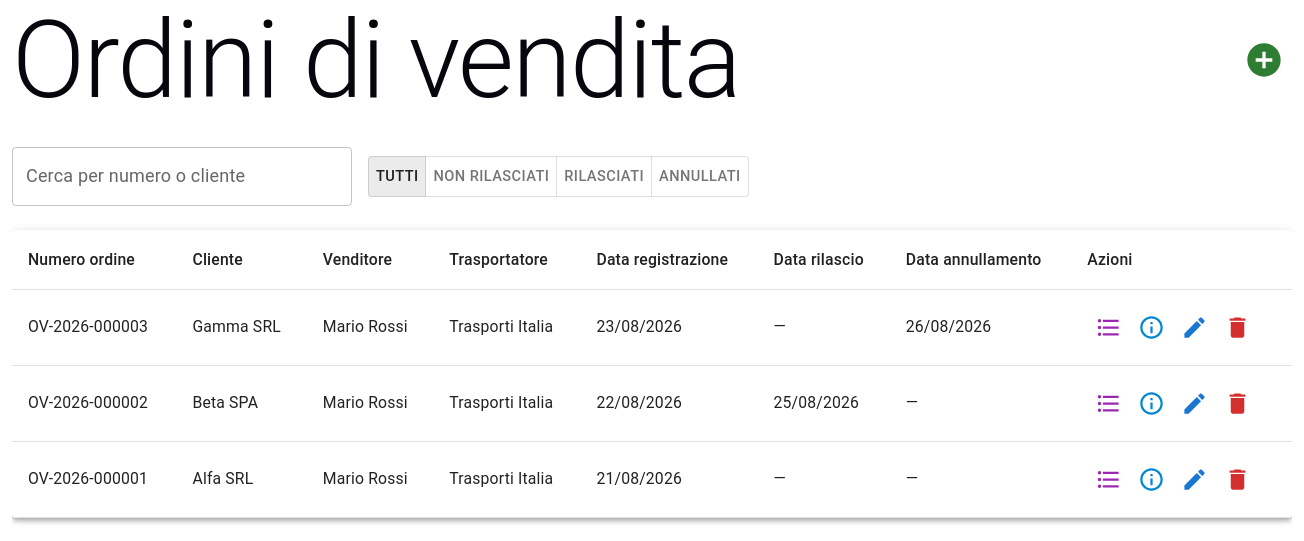
Test: OrdiniVendita › filtra per numero o nome del cliente
This screenshot has width=1304, height=541.
Check: the text "OV-2026-000001" is shown, box x1=12 y1=441 x2=176 y2=517
Type "Beta" into the field labelled "Cerca per numero o cliente". click: (182, 176)
box: x1=12 y1=147 x2=352 y2=206
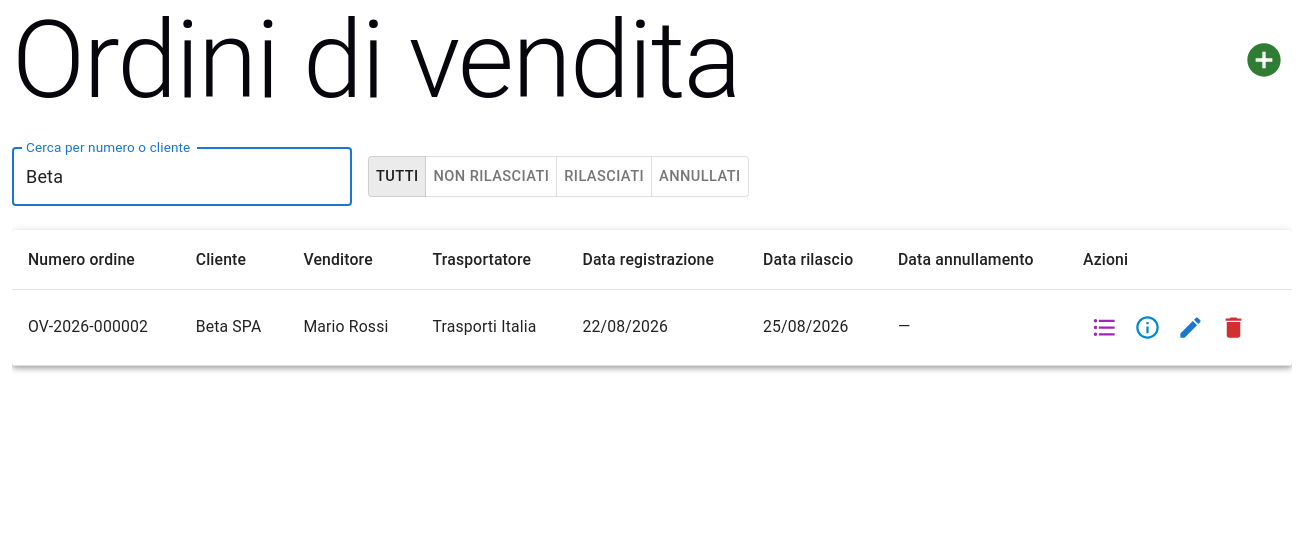
Check: the text "OV-2026-000002" is shown, box x1=12 y1=289 x2=180 y2=365
Check: the text "OV-2026-000001" is gone
